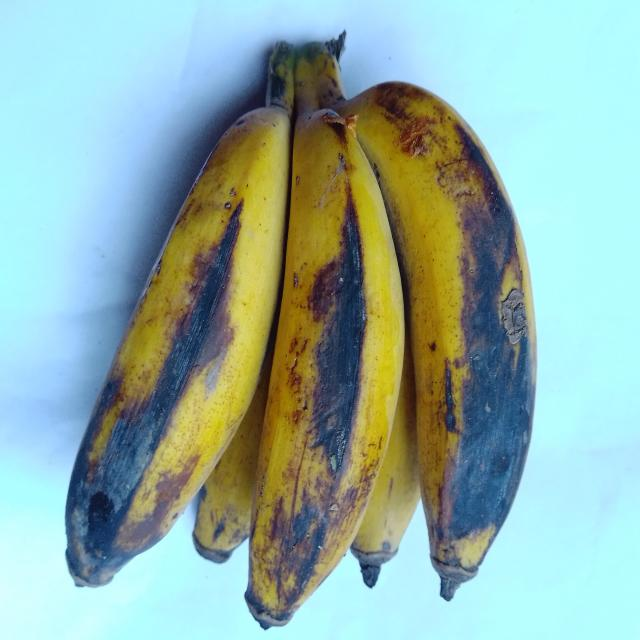banana: (66, 43, 293, 586), (322, 83, 536, 599), (246, 44, 404, 627), (351, 332, 420, 587), (193, 345, 272, 563)
